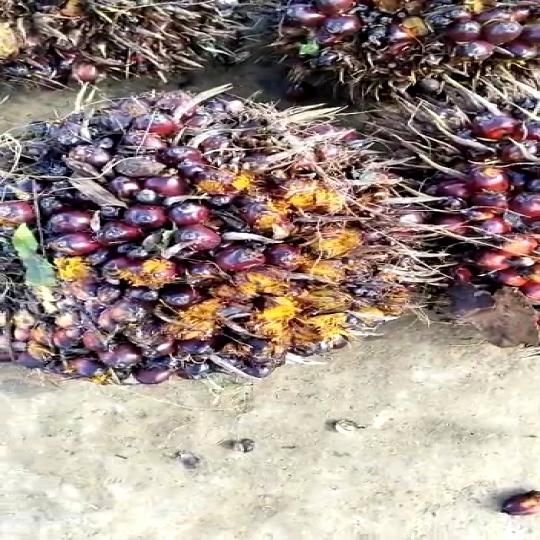masak: (0, 88, 440, 380)
